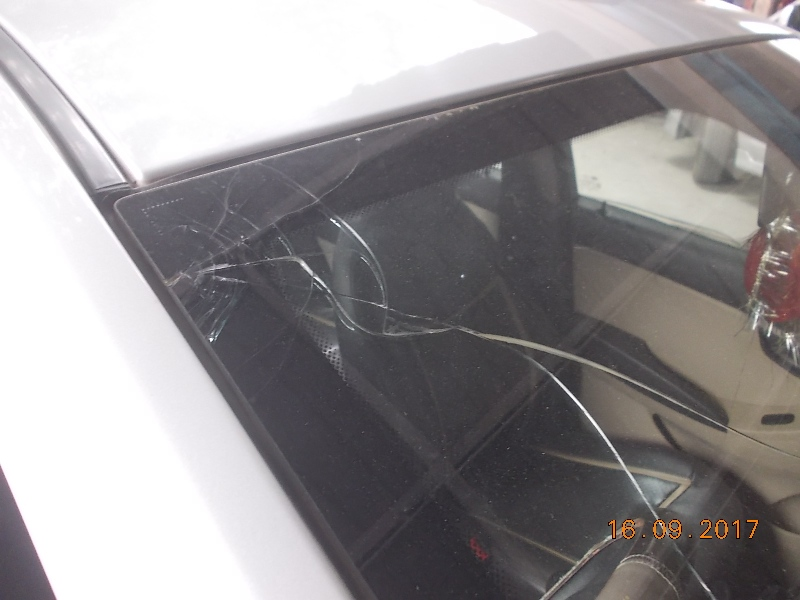Shatter: (303, 226, 393, 347), (173, 204, 261, 305), (452, 310, 542, 377), (565, 388, 609, 447)
